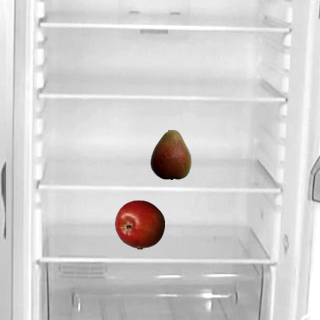Apple Braeburn: (114, 199, 164, 249)
Pear Forelle: (145, 129, 195, 179)
